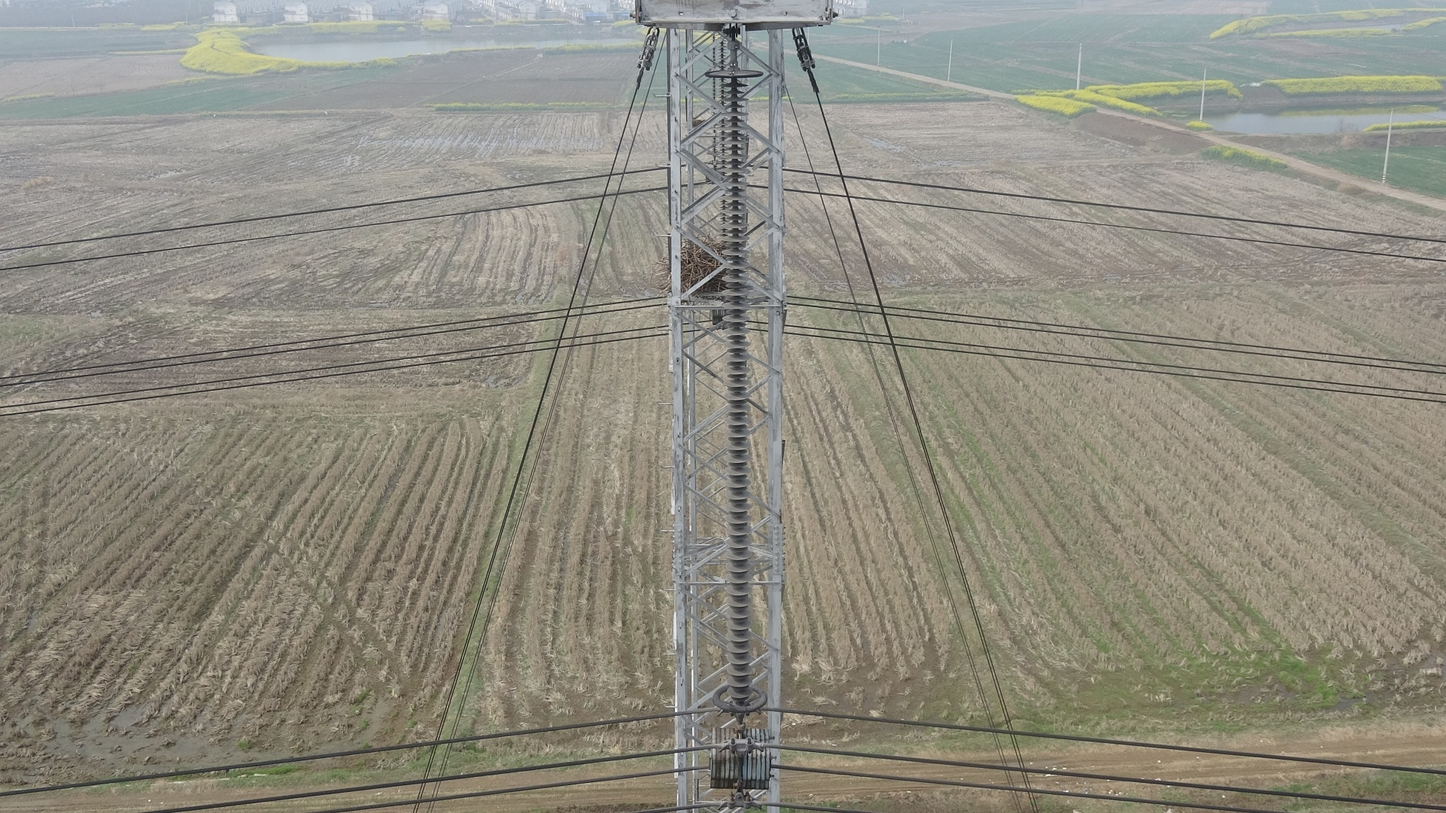insulator: (712, 80, 761, 709), (716, 38, 728, 235)
